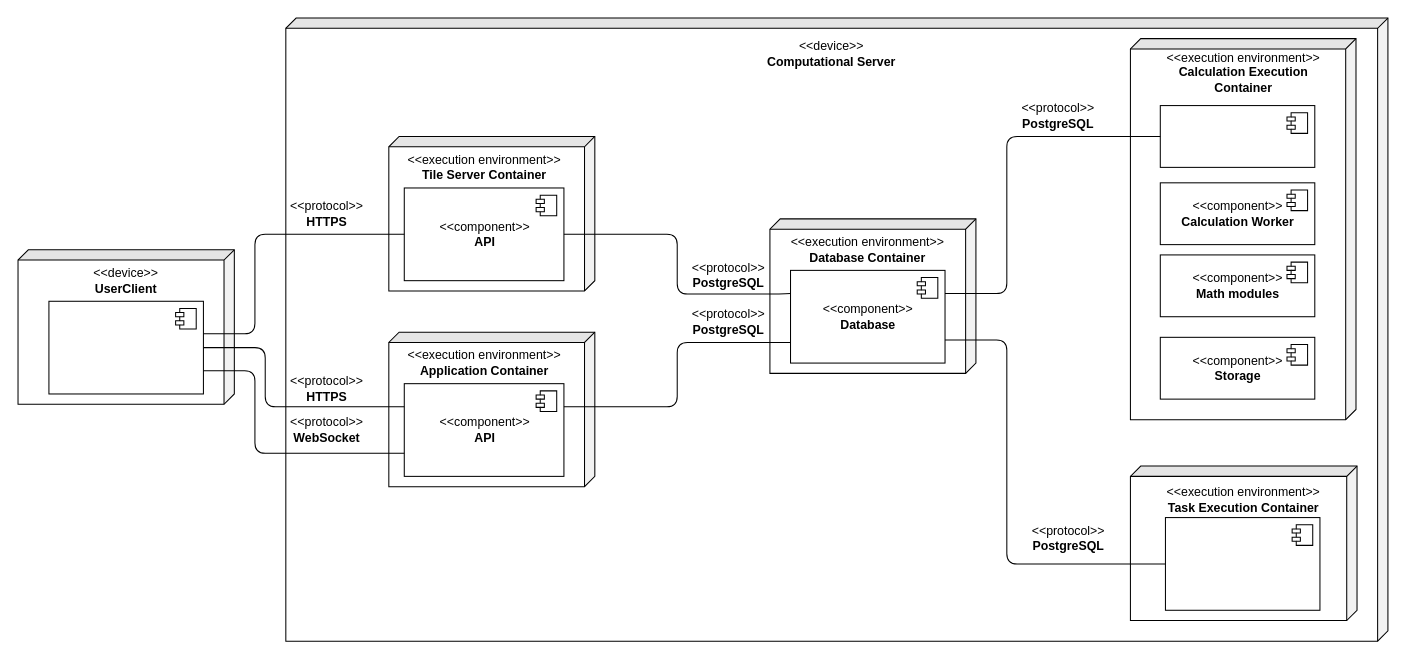
Image size: 1406x659. Some labels were removed from this diagram. Each missing label, with the box of its shape:
<<component>> Calculation Manager: (1159, 105, 1315, 167)
<<component>> Task Manager: (1164, 517, 1320, 610)
<<component>> Web Interface: (48, 300, 203, 394)
